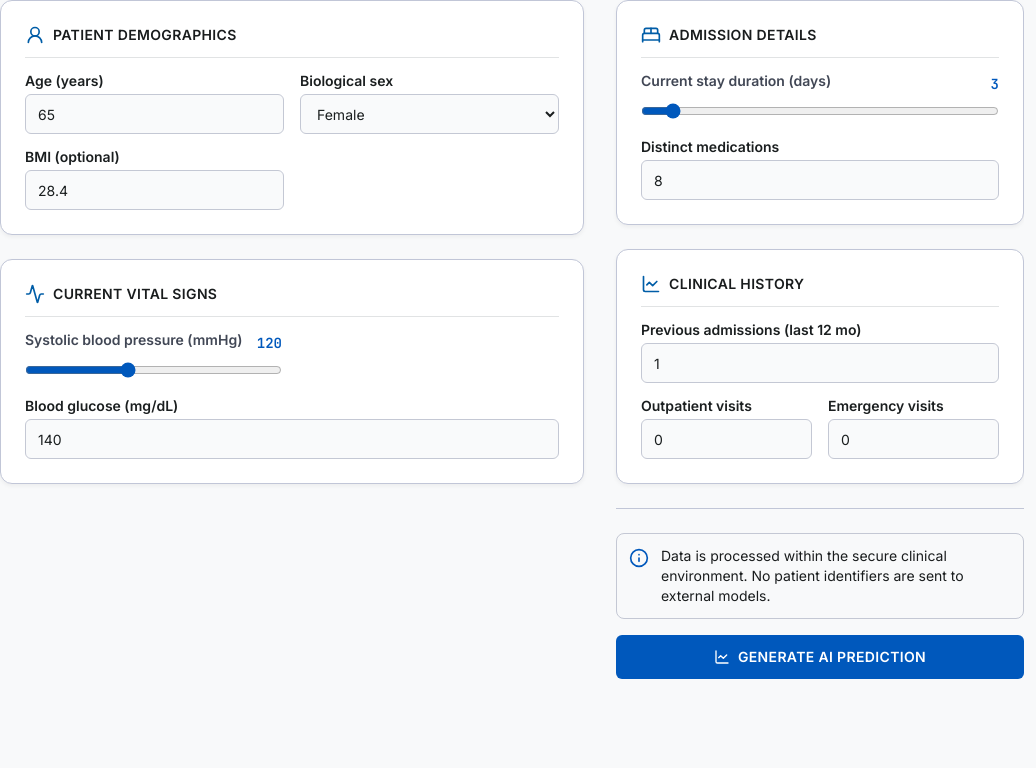
Scenario: ClinicalEvaluationForm › blocks submit and shows errors for invalid values
The width and height of the screenshot is (1036, 768).
Clear the number field labelled "Age (years)" at (154, 114), box [25,94,284,134]
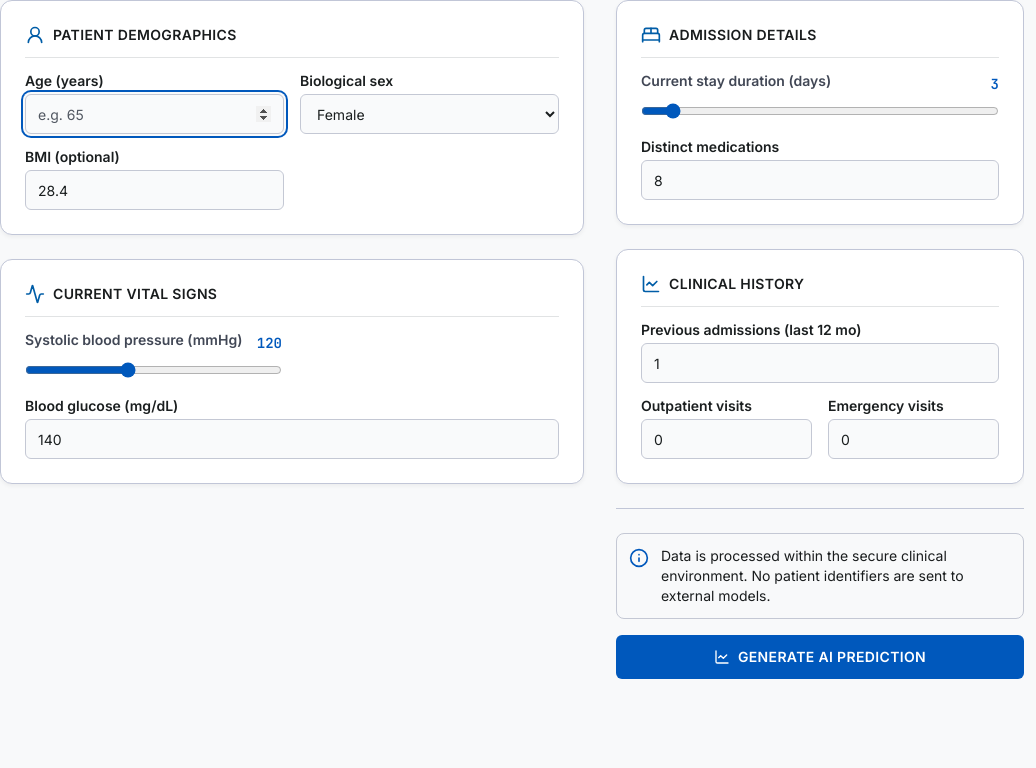
Type "999" into the number field labelled "Blood glucose (mg/dL)" at (292, 439), box [25,419,559,459]
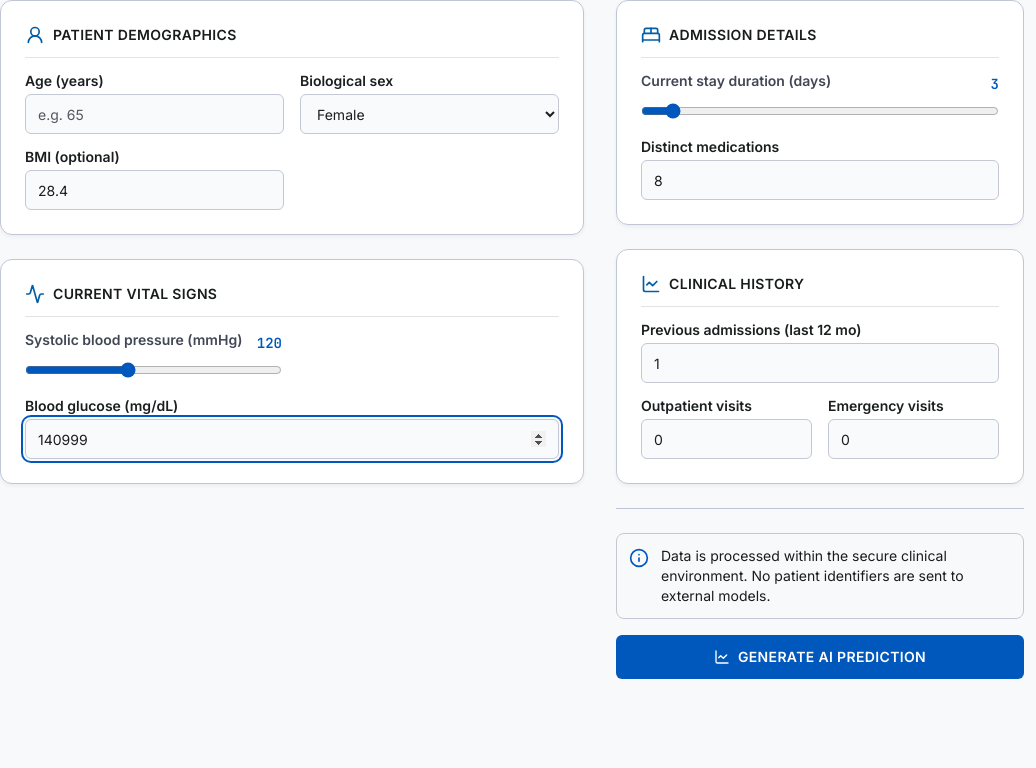
Click the button "Generate AI Prediction" at (820, 657), box [616,635,1024,679]
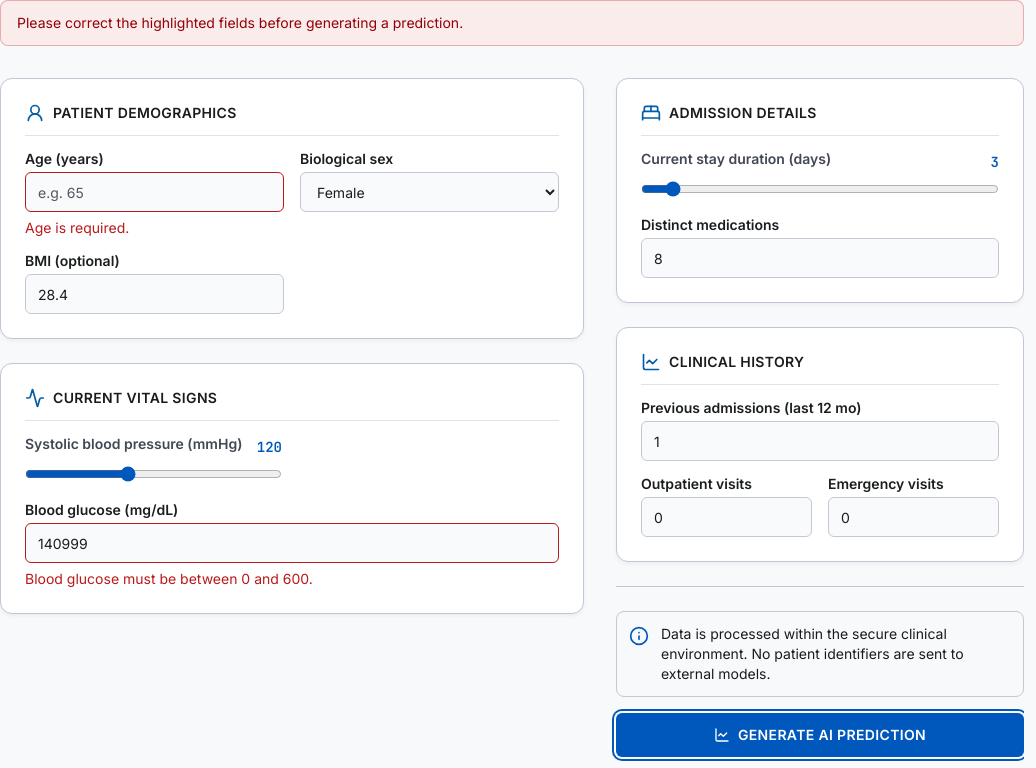
Now the text "Please correct the highlighted fields" is shown, box [17,14,463,31]
Now the text "Age is required." is shown, box [25,219,129,236]
Now the text "Blood glucose must be between 0 and 600." is shown, box [25,570,313,587]
